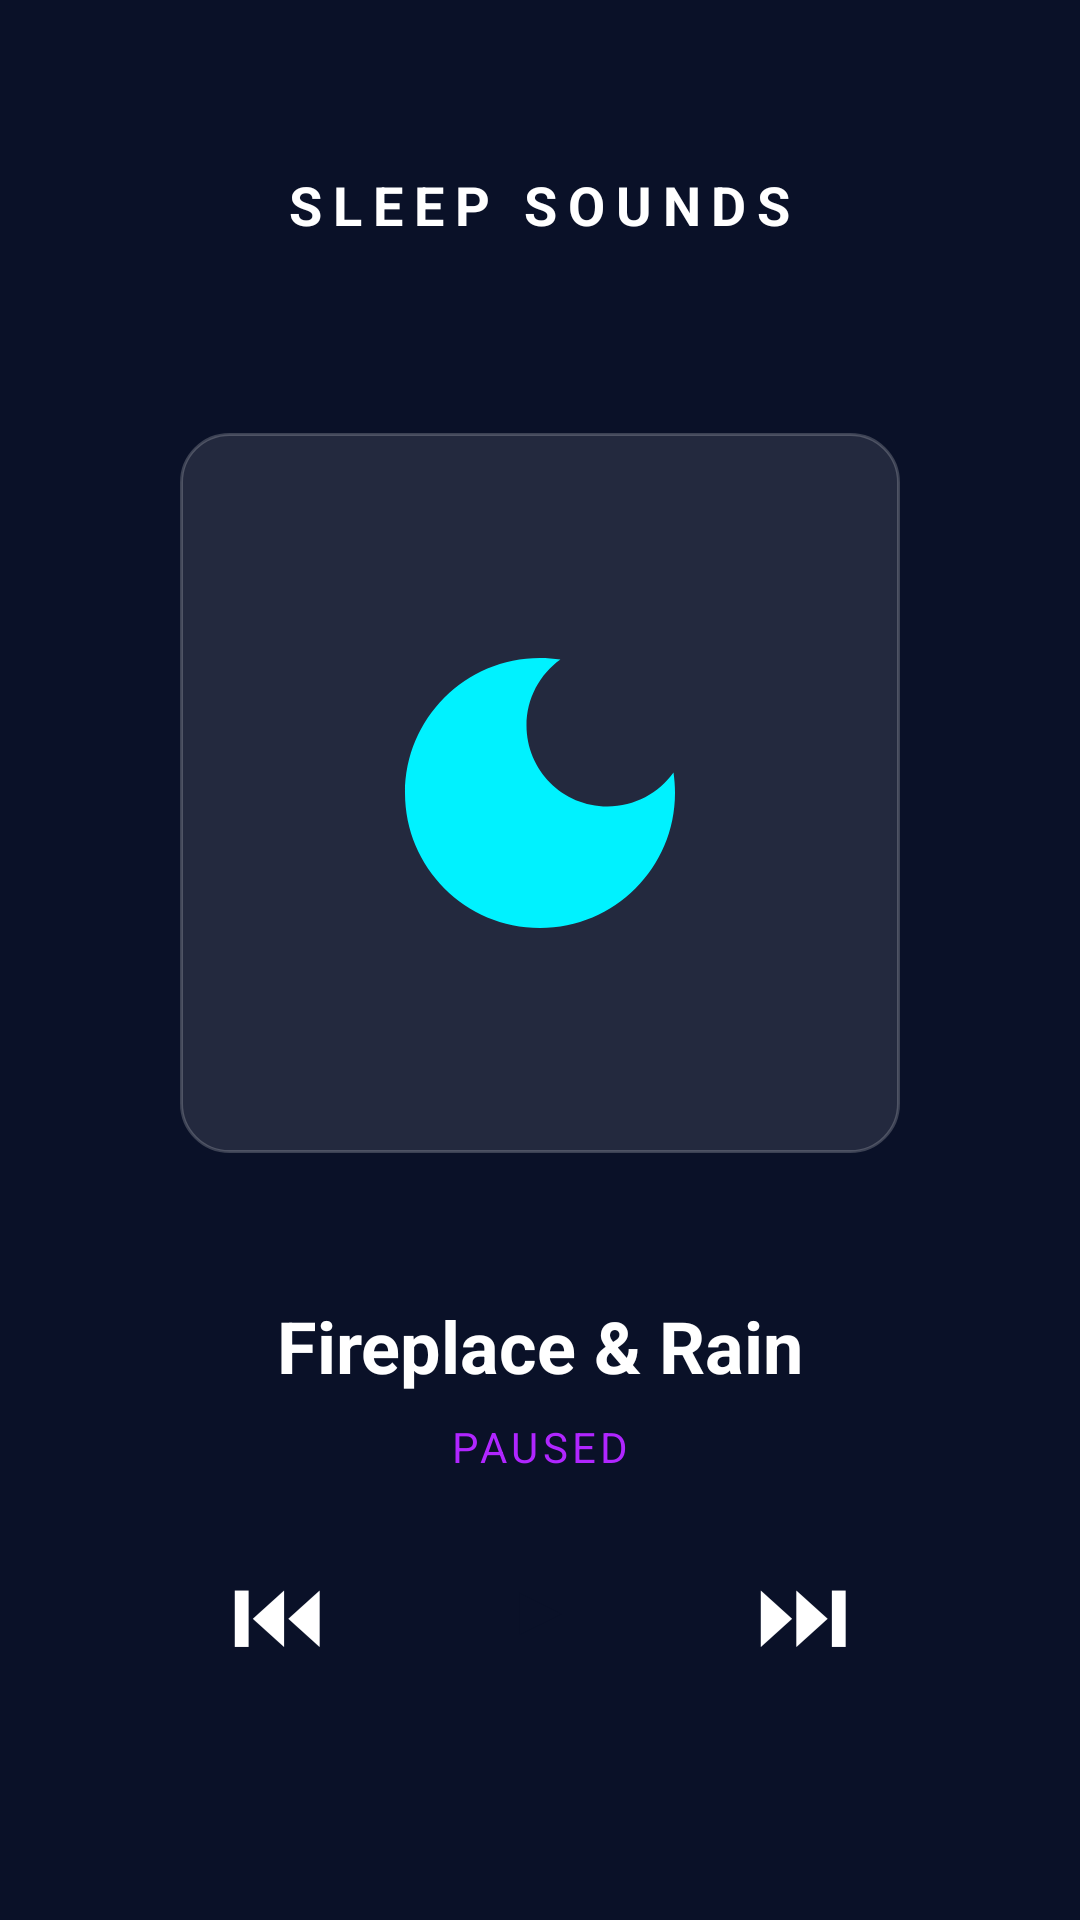

Screen size 1080w x 1920h. Icon name, then its box in pixels as (x1, y1, x2, y2):
moon neon: (405, 658, 675, 928)
